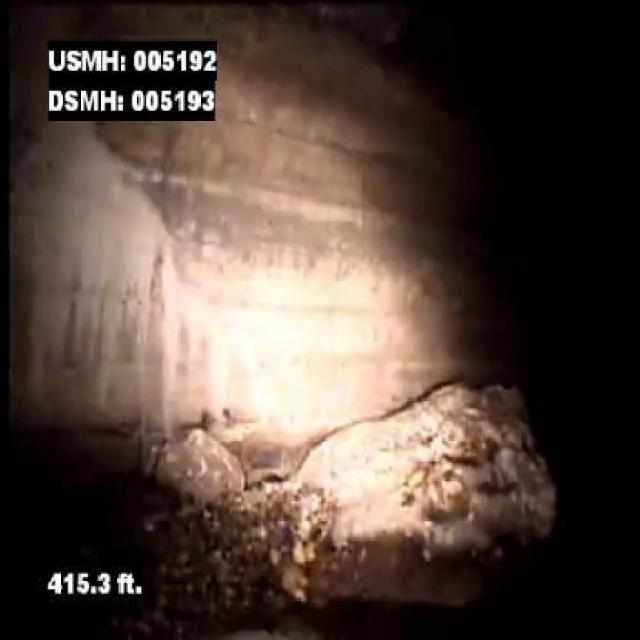Debris: (138, 421, 254, 514)
Obstacle: (289, 375, 557, 568)
